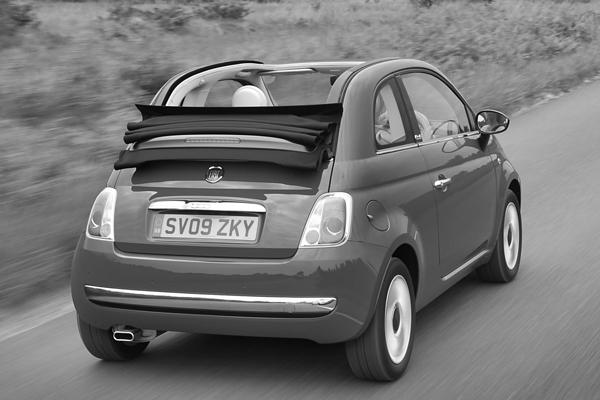car: (70, 57, 526, 384)
